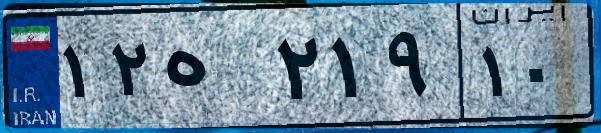0: (525, 38, 570, 115)
1: (330, 28, 385, 110), (57, 26, 110, 100), (475, 38, 525, 113)
2: (270, 28, 330, 110), (110, 28, 158, 98)
9: (385, 28, 445, 110)
ه: (158, 20, 270, 120)
